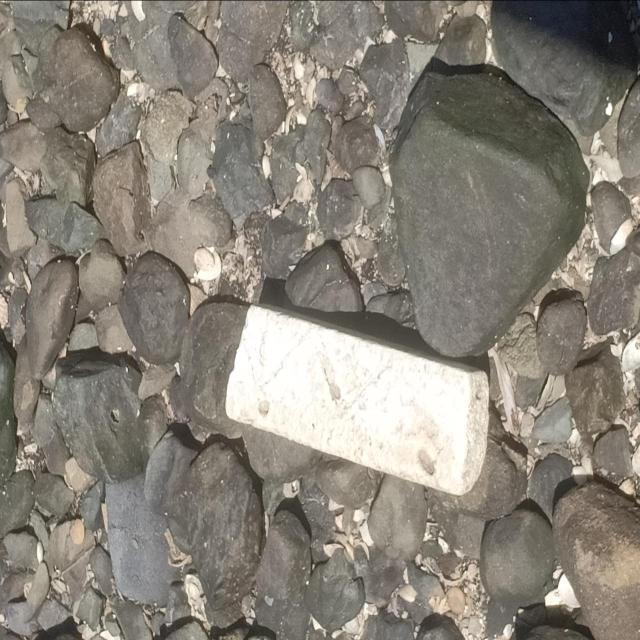styrofoam_waste: (227, 301, 491, 495)
